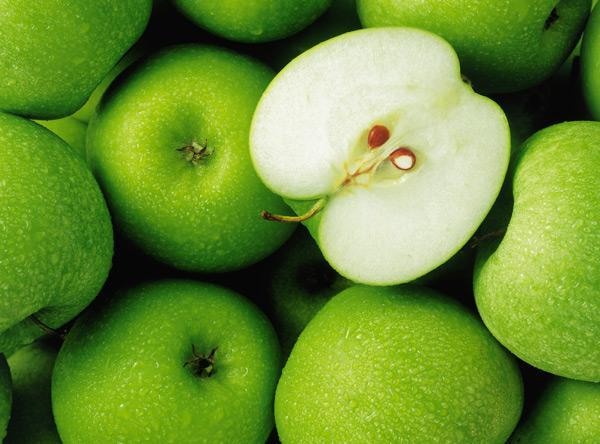apple: (84, 43, 302, 273), (52, 276, 283, 442), (276, 289, 521, 442), (1, 114, 115, 358), (268, 252, 349, 357)
